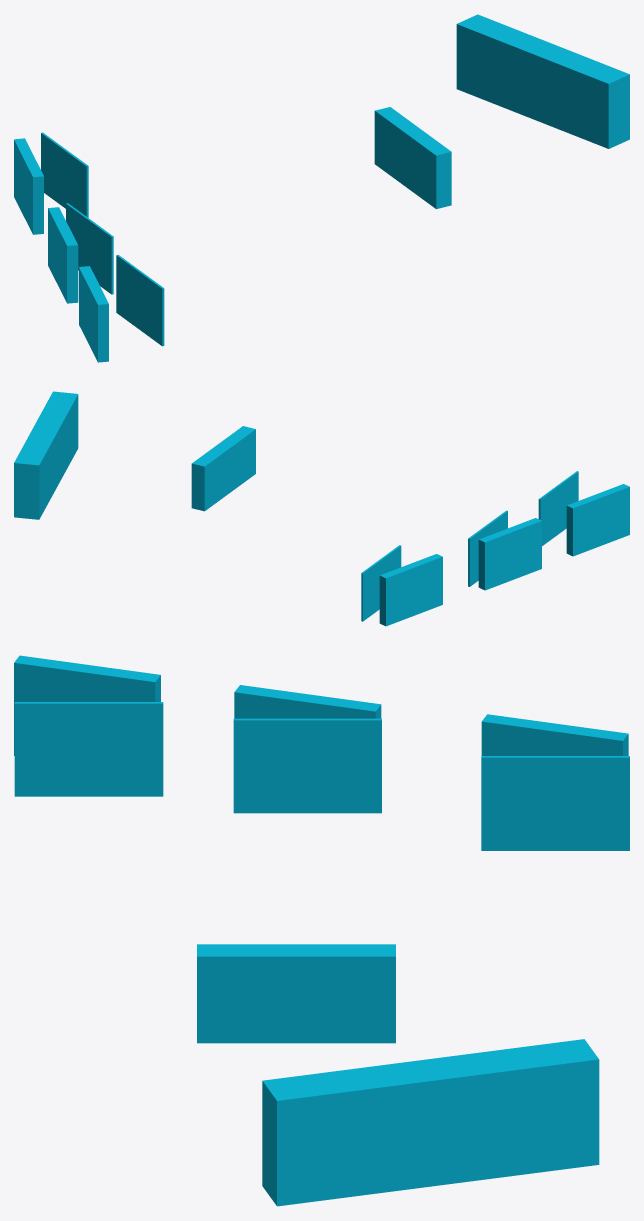
The model's file is GlassShip.glb.
3 renders of one model, top to bottom at view 1: azimuth 30°, elevation 25°; view 2: azimuth 150°, elevation 25°; view 3: azimuth 270°, elevation 25°, orthographic. The views are drawn at different scales.
Parts seen in each view (by area): view 1: Window.004; view 2: Window.004; view 3: Window.004.
Boxes of the visible parts, <box> form: Window.004: <box>14,14,629,362</box>; Window.004: <box>14,391,629,626</box>; Window.004: <box>14,655,629,1206</box>.
Bounding box in the file's own units: 11.11 × 1.4 × 5.99.
